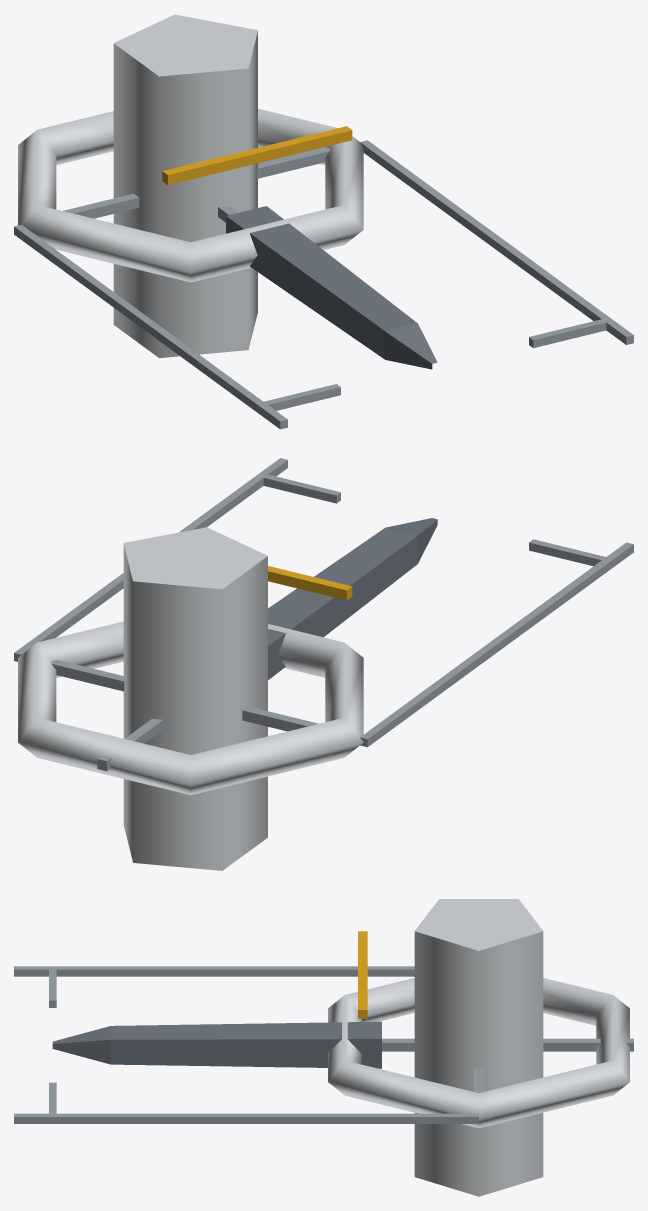
Rendered from space_orbital_shipyard_t1_lod2.glb.
3 views of the same model, one above another, from view 1: azimuth 30°, elevation 25°; view 2: azimuth 150°, elevation 25°; view 3: azimuth 270°, elevation 25° (orthographic). The views are drawn at different scales.
Visible parts, largest first — view 1: body, ring, dock_arm_0, dock_arm_1, crane_0; view 2: body, ring, dock_arm_0, dock_arm_1, crane_0; view 3: body, ring, dock_arm_1, dock_arm_0, crane_0.
Part boxes in pixels (x1,y1,x2,y2): body: [113, 14, 437, 369]; ring: [18, 108, 363, 282]; dock_arm_0: [14, 224, 340, 429]; dock_arm_1: [360, 140, 633, 348]; crane_0: [162, 126, 352, 184]; body: [123, 518, 437, 870]; ring: [18, 621, 363, 795]; dock_arm_0: [360, 539, 633, 747]; dock_arm_1: [14, 458, 340, 661]; crane_0: [268, 566, 352, 600]; body: [52, 899, 543, 1196]; ring: [328, 978, 633, 1128]; dock_arm_1: [14, 1082, 478, 1123]; dock_arm_0: [14, 966, 414, 1007]; crane_0: [358, 931, 367, 1018].
Bounding box in the file's own units: 18.4 × 14 × 32.
